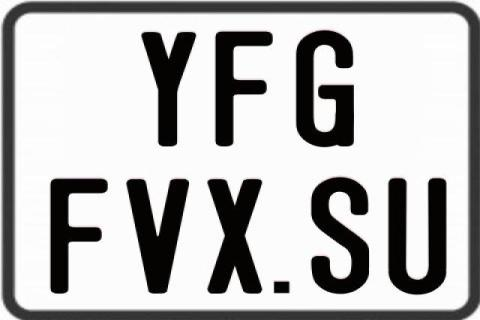F: (47, 178, 111, 296), (212, 32, 273, 152)
G: (296, 29, 356, 145)
S: (310, 176, 368, 294)
U: (388, 177, 452, 297)
V: (123, 178, 187, 296)
X: (205, 177, 261, 296)
Y: (138, 32, 195, 150)
